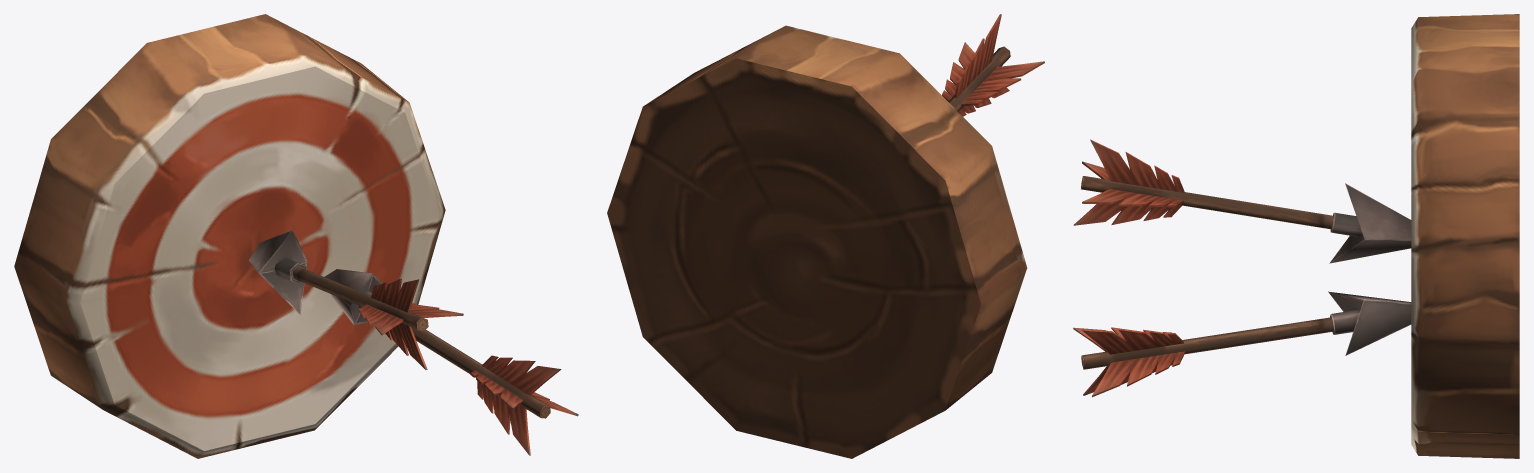
File: 74_target.FBX
3 views of the same model, side by side, from view 1: azimuth 30°, elevation 25°; view 2: azimuth 150°, elevation 25°; view 3: azimuth 270°, elevation 25° (orthographic). The views are drawn at different scales.
Visible parts, largest first — view 1: Cylinder014; view 2: Cylinder014; view 3: Cylinder014.
Boxes of the visible parts, x1,y1,x2,y2 form: Cylinder014: (14,14,578,458); Cylinder014: (607,14,1044,458); Cylinder014: (1073,14,1519,458).
Bounding box in the file's own units: 53.16 × 50.56 × 52.92.
